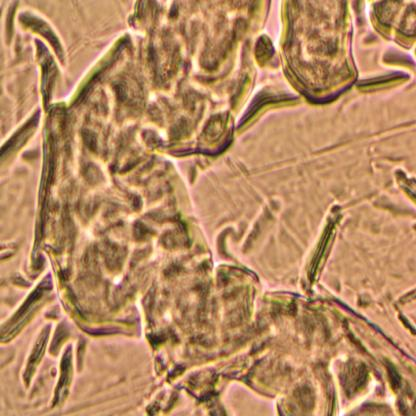Normal: (41, 0, 260, 416), (29, 0, 416, 162), (151, 306, 409, 416)
